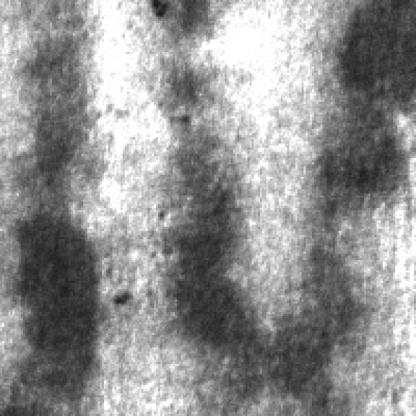patches: (164, 131, 264, 375), (316, 0, 412, 210), (6, 208, 98, 400), (268, 247, 354, 408), (10, 29, 94, 185), (141, 0, 219, 44)
